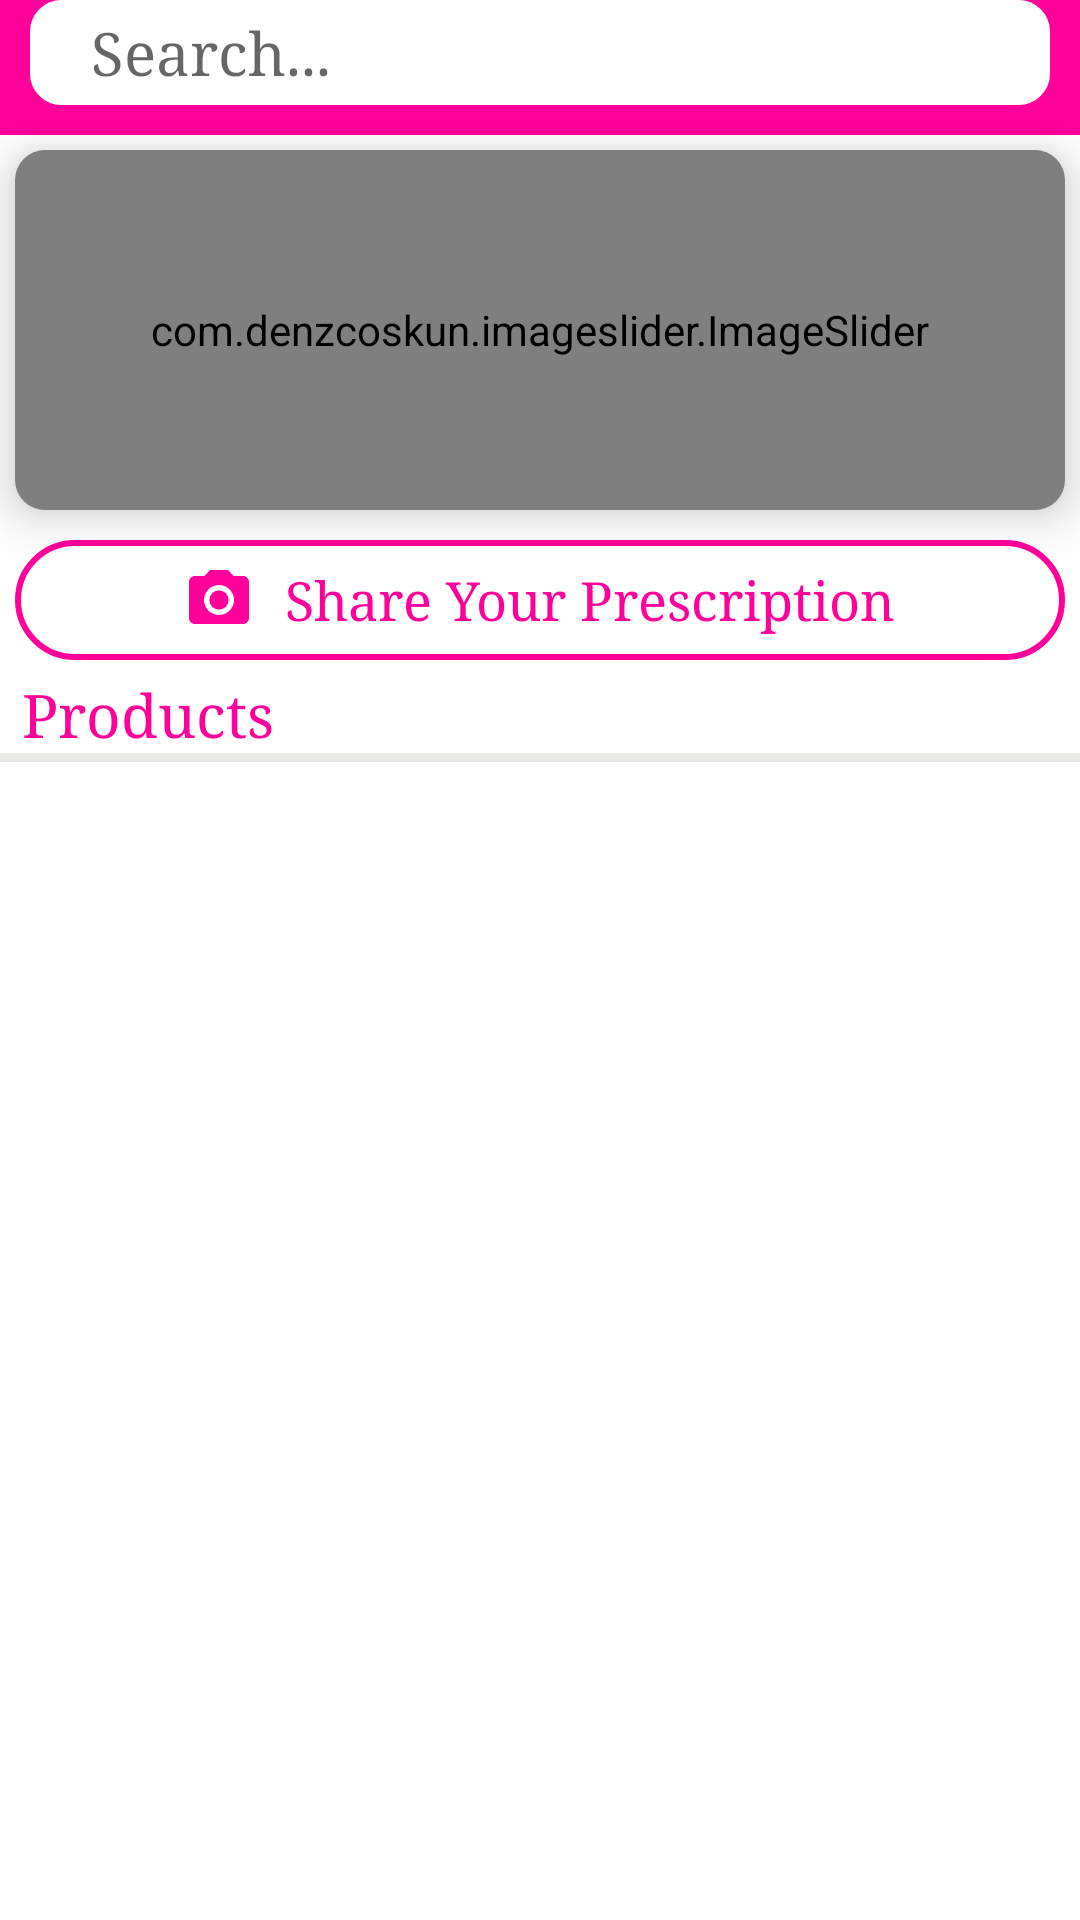

Screen size 1080w x 1920h. Icon name, then its center in pixels as [x,y]:
camera: [219,597]
